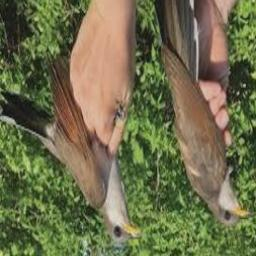Cuckoo: (0, 51, 141, 243), (154, 0, 249, 227)
